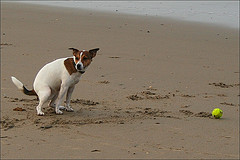tennis ball: (211, 107, 224, 120)
